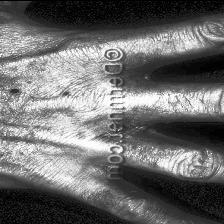Toxin: (131, 130, 173, 160), (87, 190, 147, 202), (129, 107, 168, 120), (134, 75, 162, 93), (130, 52, 162, 64)
